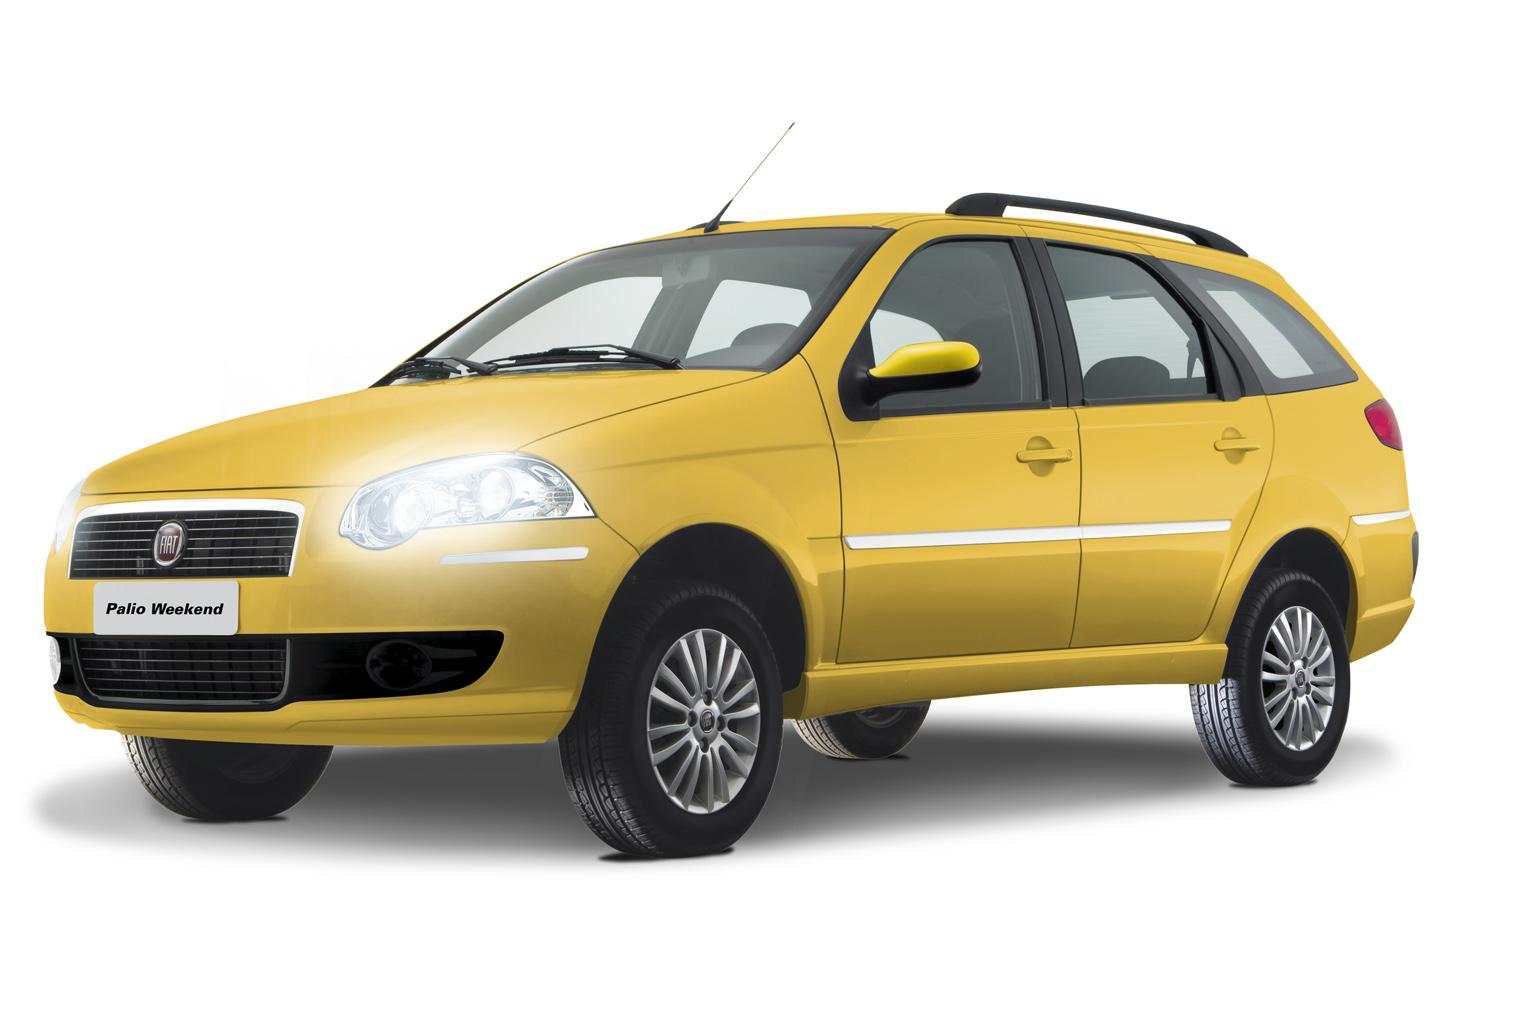taxi: (1, 109, 1392, 762)
